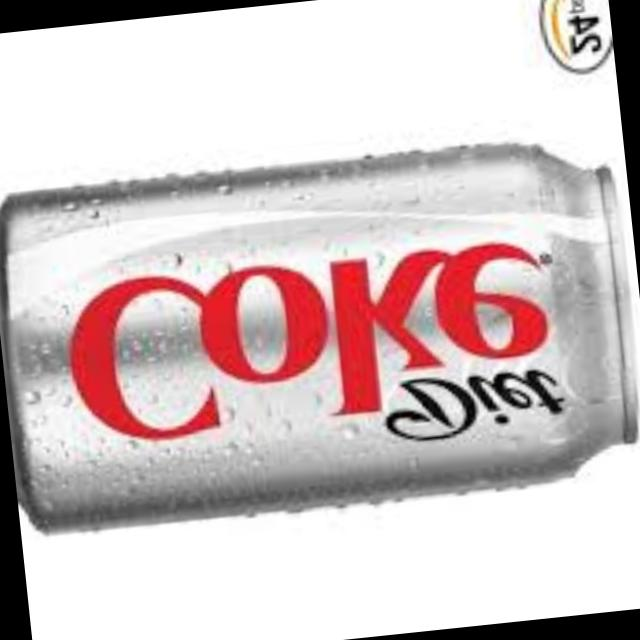metal: (0, 148, 640, 534)
